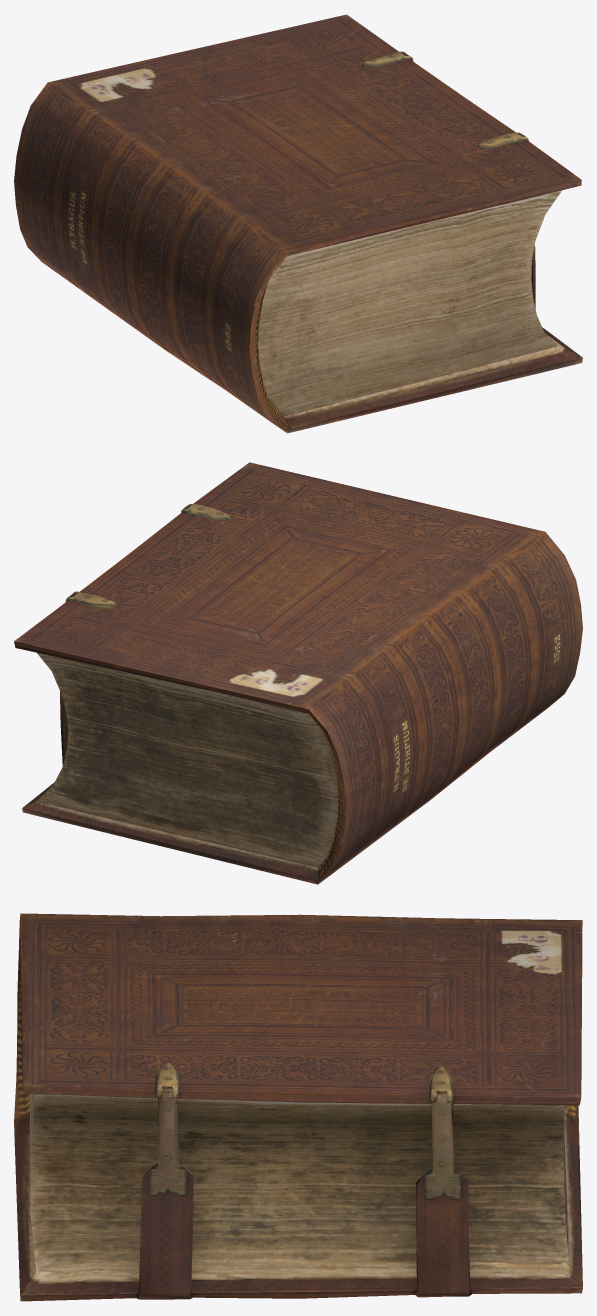
Rendered from Book.fbx.
The picture shows the model from 3 angles, top to bottom: view 1: azimuth 30°, elevation 25°; view 2: azimuth 150°, elevation 25°; view 3: azimuth 270°, elevation 25°; orthographic projection. The views are drawn at different scales.
Visible parts, largest first — view 1: Book; view 2: Book; view 3: Book.
Boxes of the visible parts, x1=… form: Book: x1=14, y1=14, x2=582, y2=433; Book: x1=14, y1=462, x2=582, y2=884; Book: x1=14, y1=913, x2=582, y2=1301.
Bounding box in the file's own units: 20.65 × 10.63 × 25.28.
